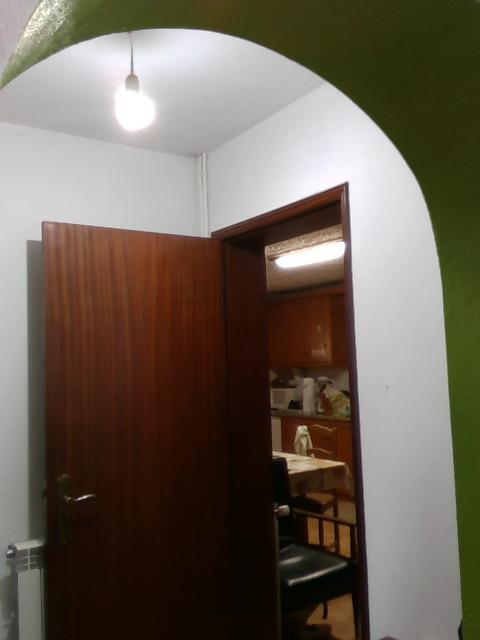open_door: (211, 179, 369, 638)
